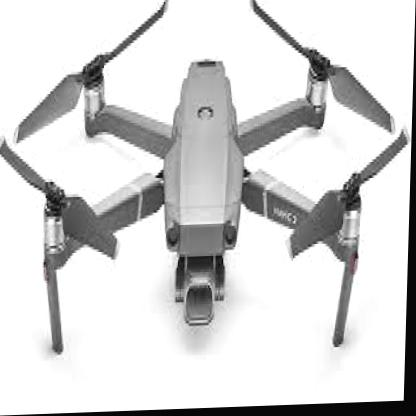UAS: (0, 0, 414, 358)
